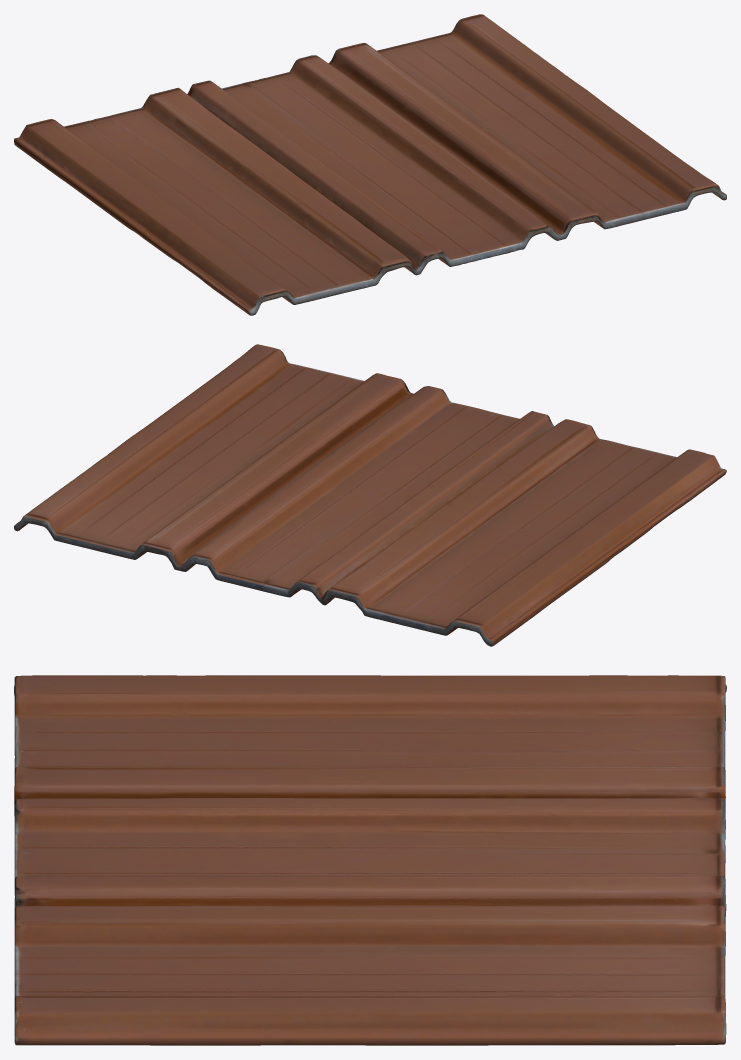
The picture shows the model from 3 angles, top to bottom: view 1: azimuth 30°, elevation 25°; view 2: azimuth 150°, elevation 25°; view 3: azimuth 270°, elevation 25°; orthographic projection. The views are drawn at different scales.
Bounding box in the file's own units: 2.01 × 0.0745 × 1.71.
Materials: 1 (1 with a texture image).
